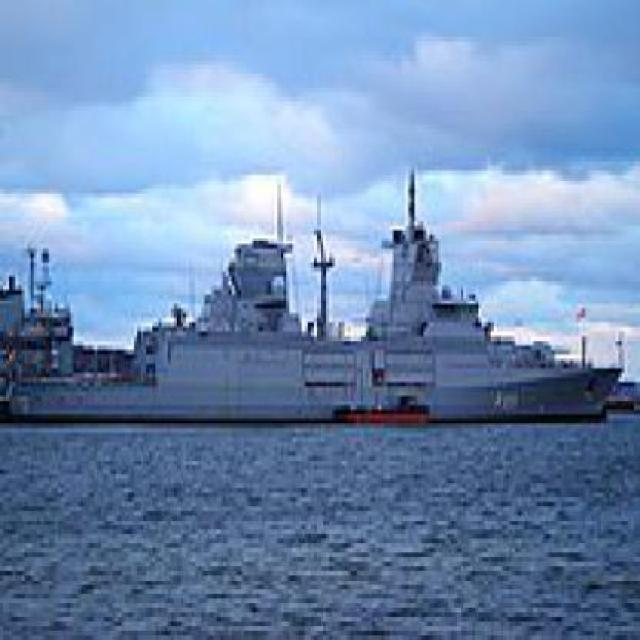warship2: (1, 176, 632, 443)
